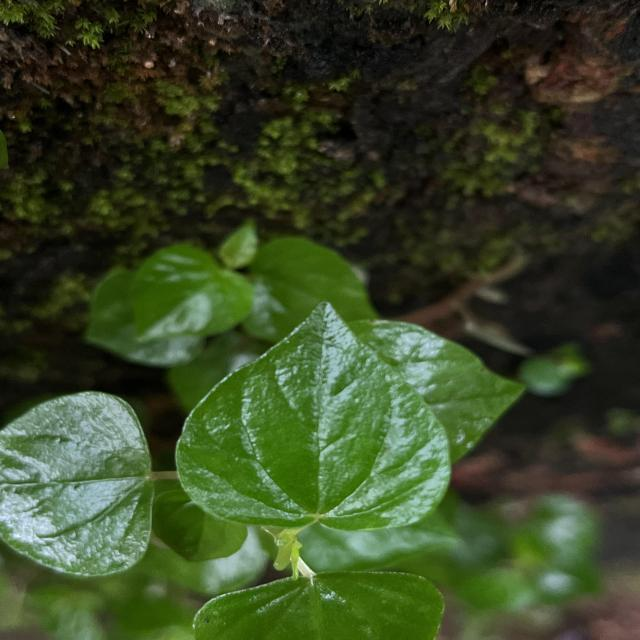Peperomia pellucida: (170, 294, 458, 536)
